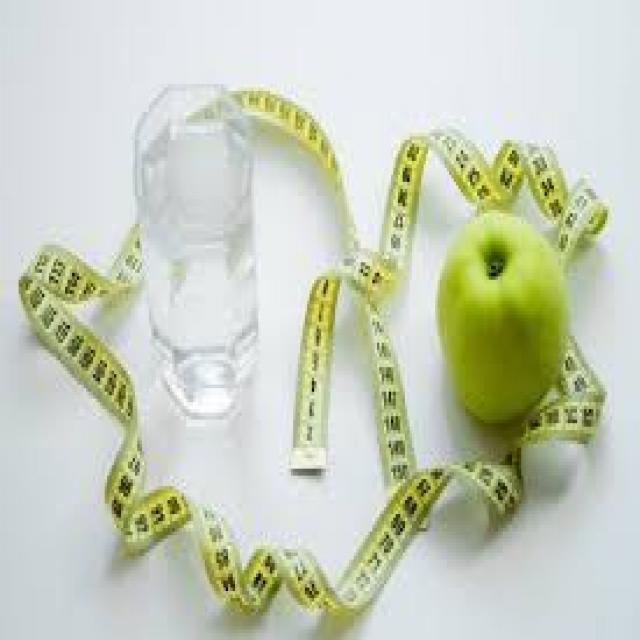Fresh Apple: (448, 230, 562, 417)
